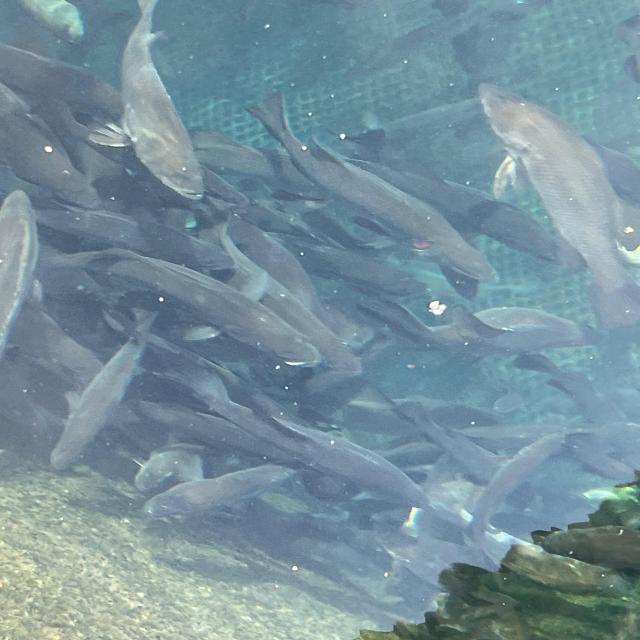ikan: (64, 19, 260, 221), (430, 74, 620, 244), (108, 244, 349, 378)
